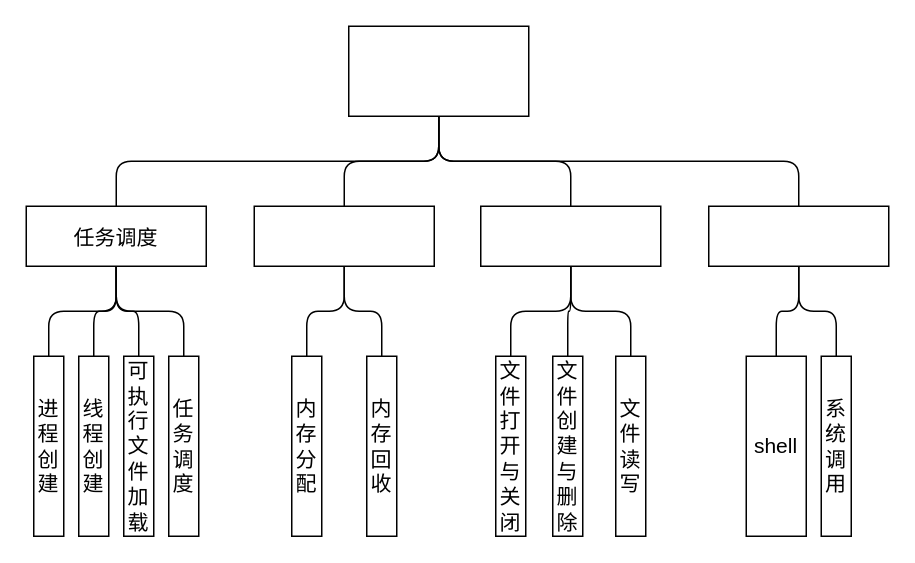
Some shapes in this 915 by 563 pixel diagram are drawn without their labels. The box of each missing label's shape, as (x1, y1, x2, y2) in pixels:
IO接口: (707, 205, 889, 266)
OS: (347, 25, 529, 116)
内存管理: (253, 205, 434, 266)
文件系统: (479, 205, 661, 266)
